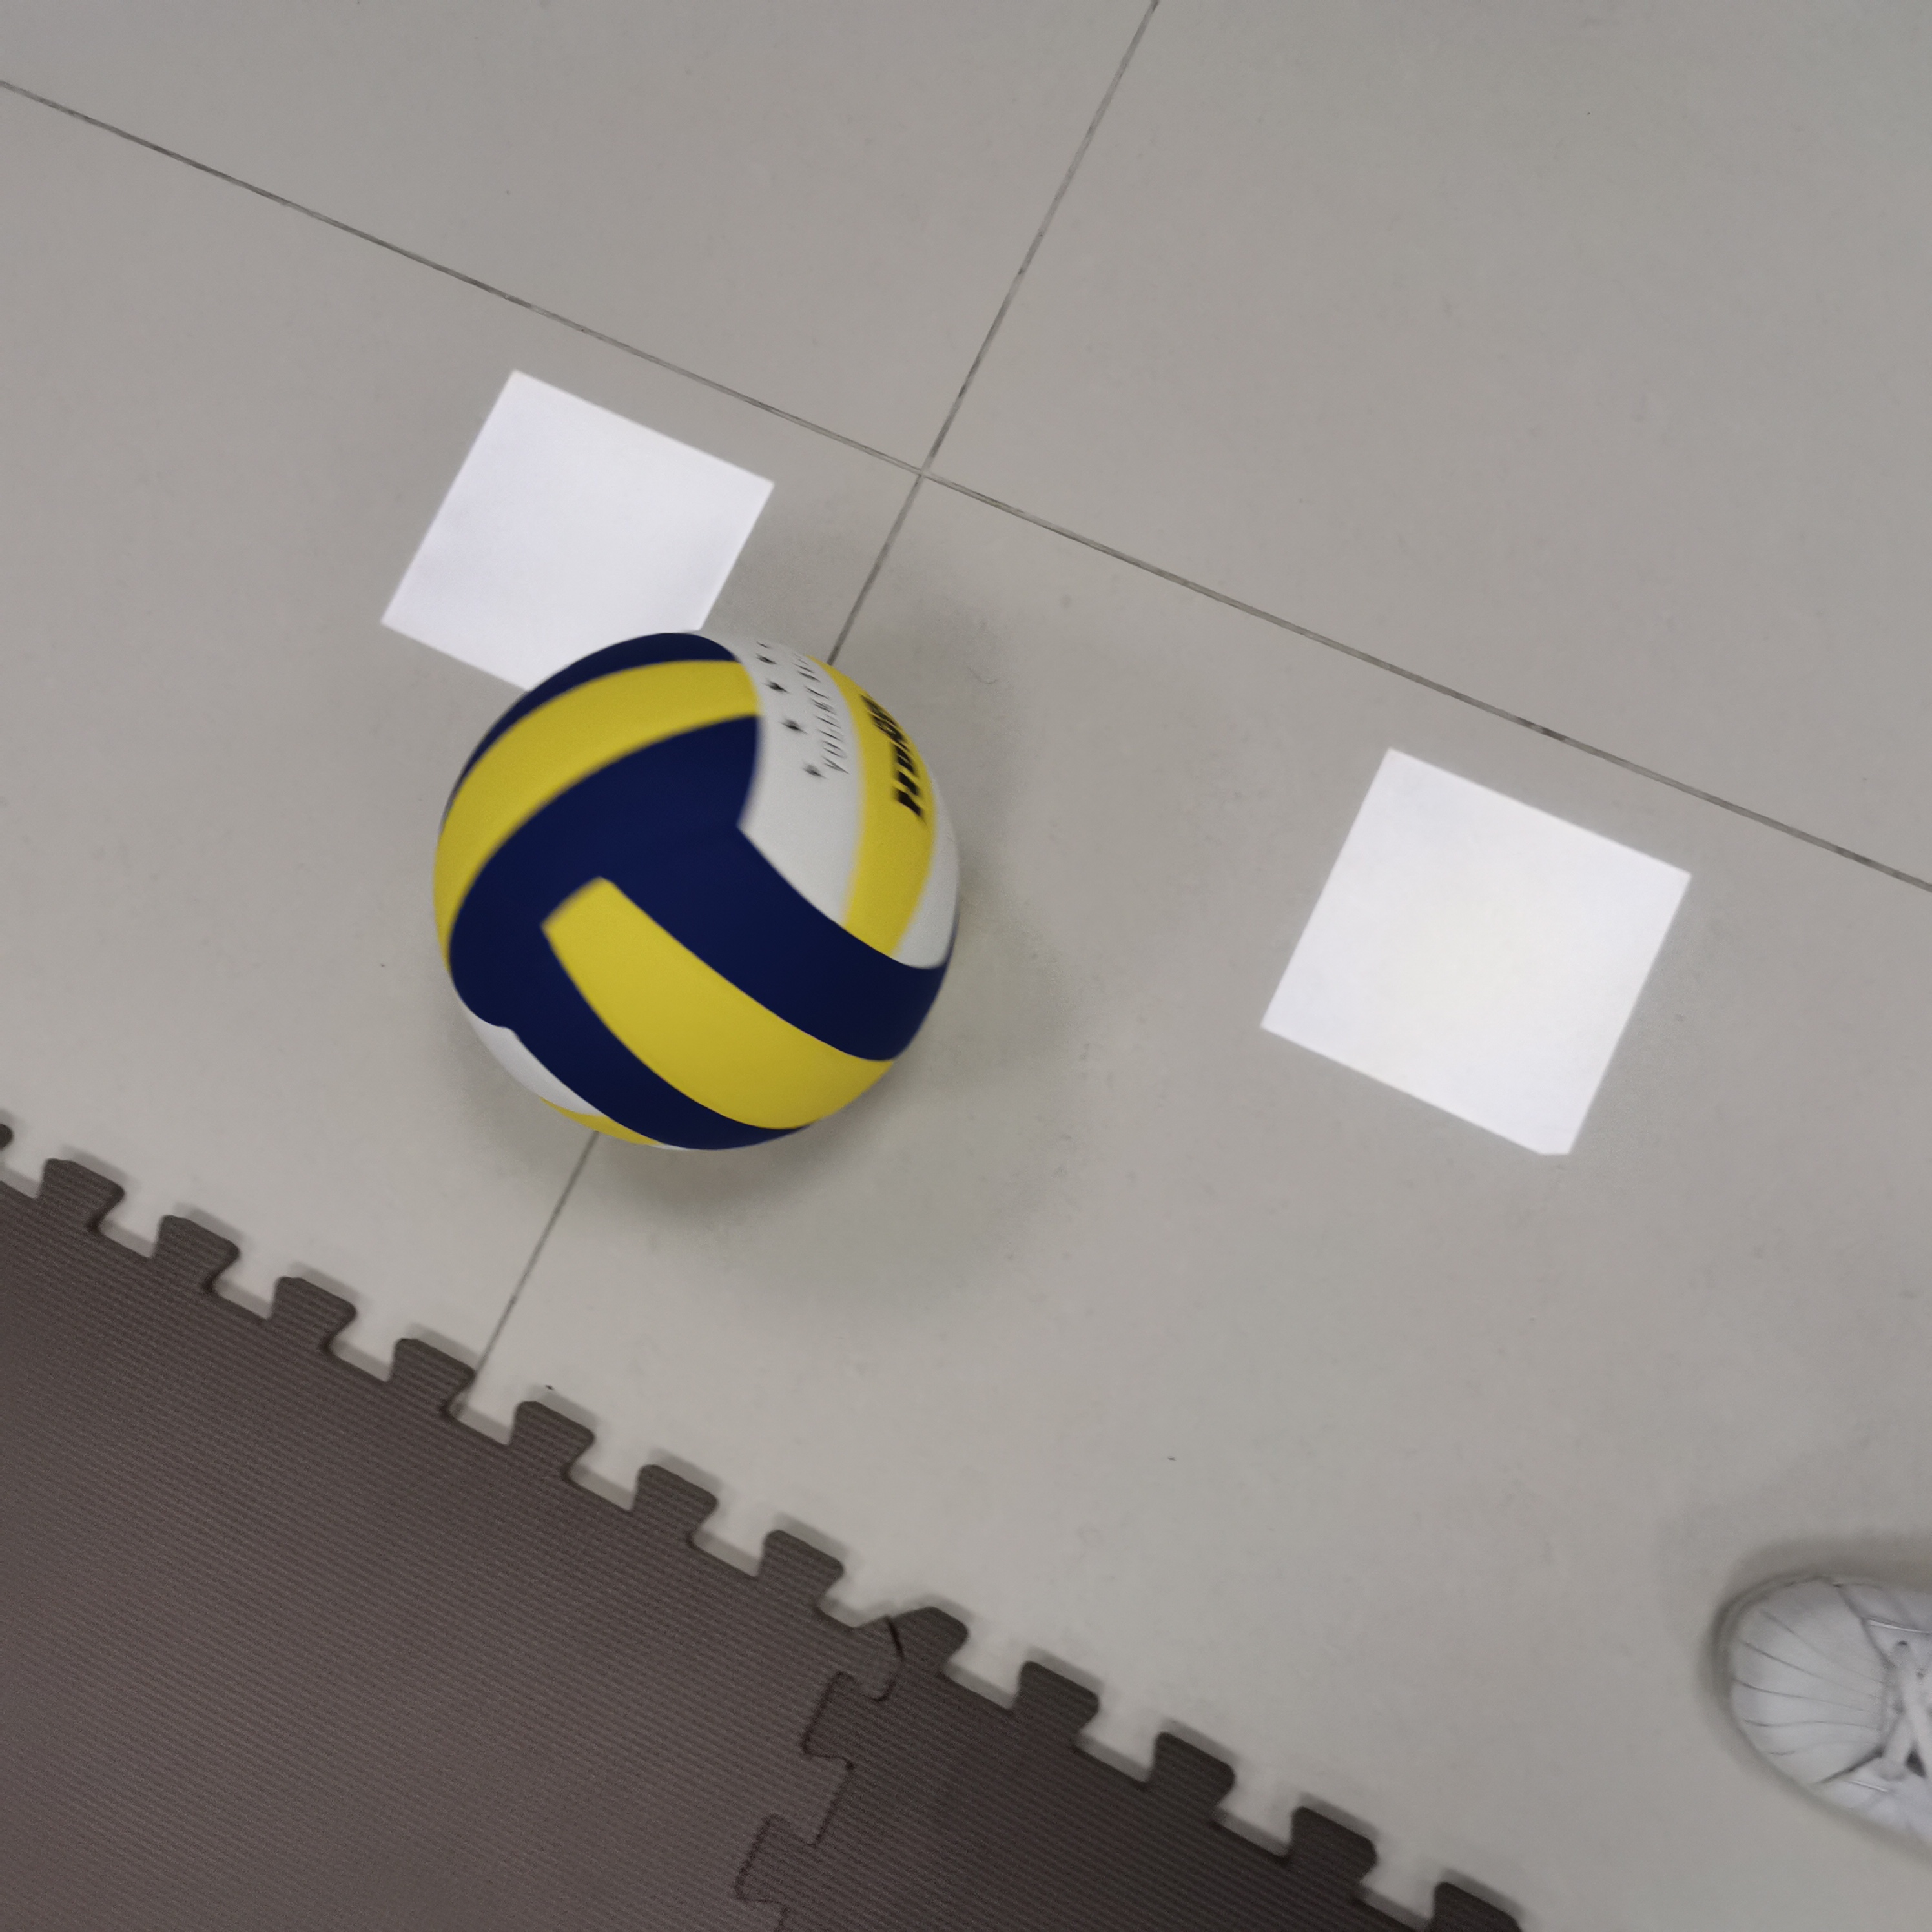volleyball: (435, 640, 954, 1152)
